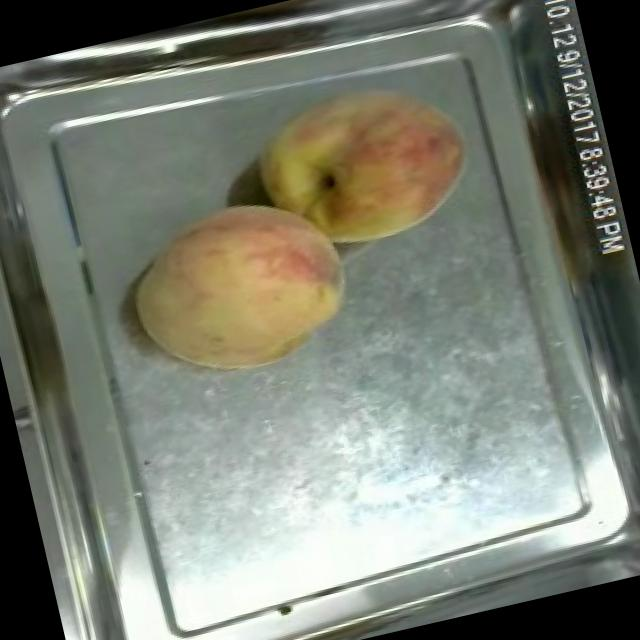Fruit: (114, 173, 373, 400), (232, 50, 483, 272)
